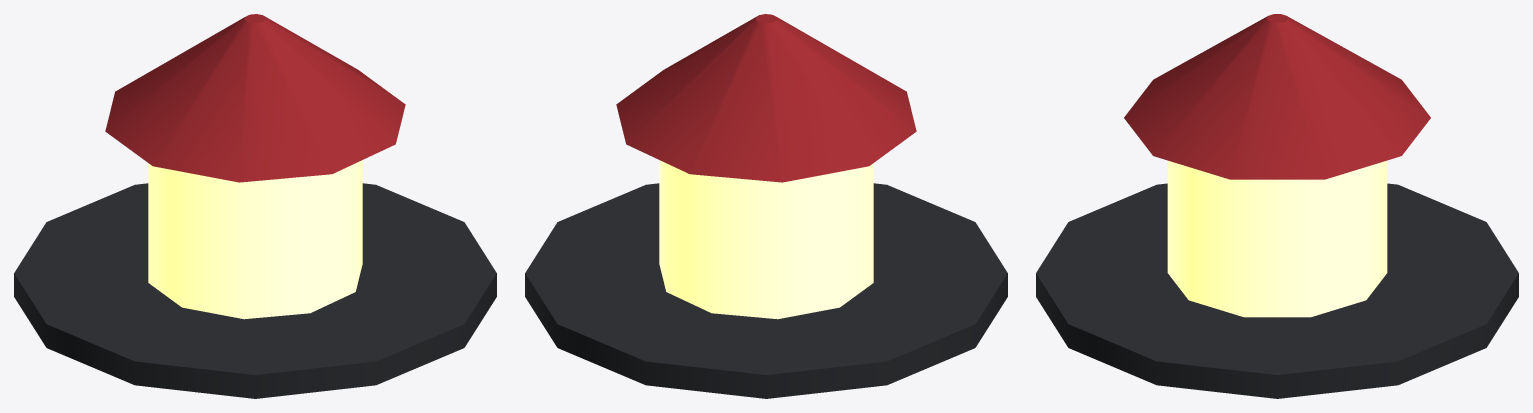
Rendered from booth-5-extra.glb.
3 renders of one model, left to right at view 1: azimuth 30°, elevation 25°; view 2: azimuth 150°, elevation 25°; view 3: azimuth 270°, elevation 25°, orthographic.
Parts seen in each view (by area): view 1: 00_#2a2c30_r320, 02_#a3262c_r320, 01_#ffe9a0_noshadow; view 2: 00_#2a2c30_r320, 02_#a3262c_r320, 01_#ffe9a0_noshadow; view 3: 00_#2a2c30_r320, 02_#a3262c_r320, 01_#ffe9a0_noshadow.
Part boxes in pixels (x1,y1,x2,y2): 00_#2a2c30_r320: (14,183,496,398); 02_#a3262c_r320: (105,14,405,182); 01_#ffe9a0_noshadow: (148,160,362,319); 00_#2a2c30_r320: (525,183,1007,398); 02_#a3262c_r320: (616,14,916,182); 01_#ffe9a0_noshadow: (659,160,873,319); 00_#2a2c30_r320: (1036,183,1518,398); 02_#a3262c_r320: (1124,14,1430,179); 01_#ffe9a0_noshadow: (1167,160,1387,317).
Size of the model in its own units: 2.2 by 1.4 by 2.2.
